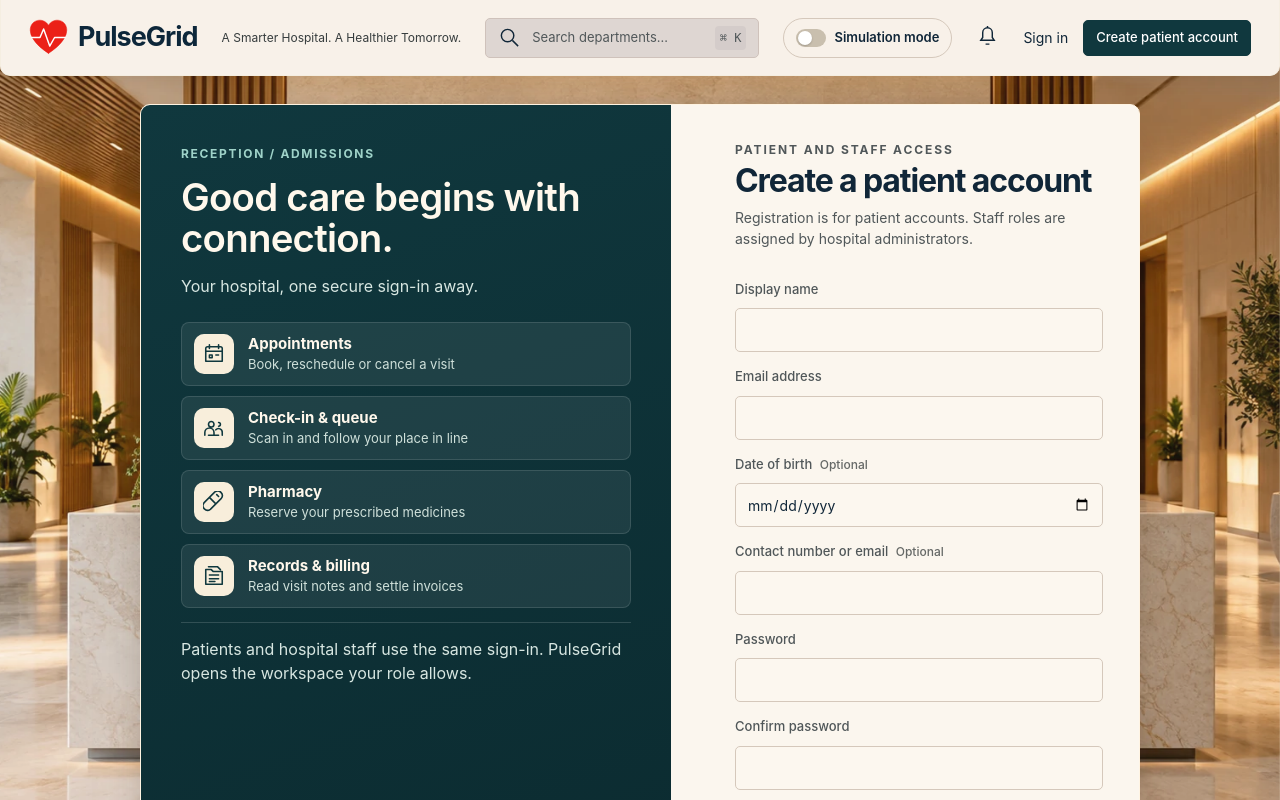
authentication pages › handles duplicate-account responses without exposing a misleading success
This screenshot has width=1280, height=800.
expect the heading "Create a patient account" is shown: met, box [735,163,1103,199]
Type "Synthetic Patient" into the field labelled "Display name".
click(919, 330); type("Synthetic Patient")  # box [735,308,1103,352]
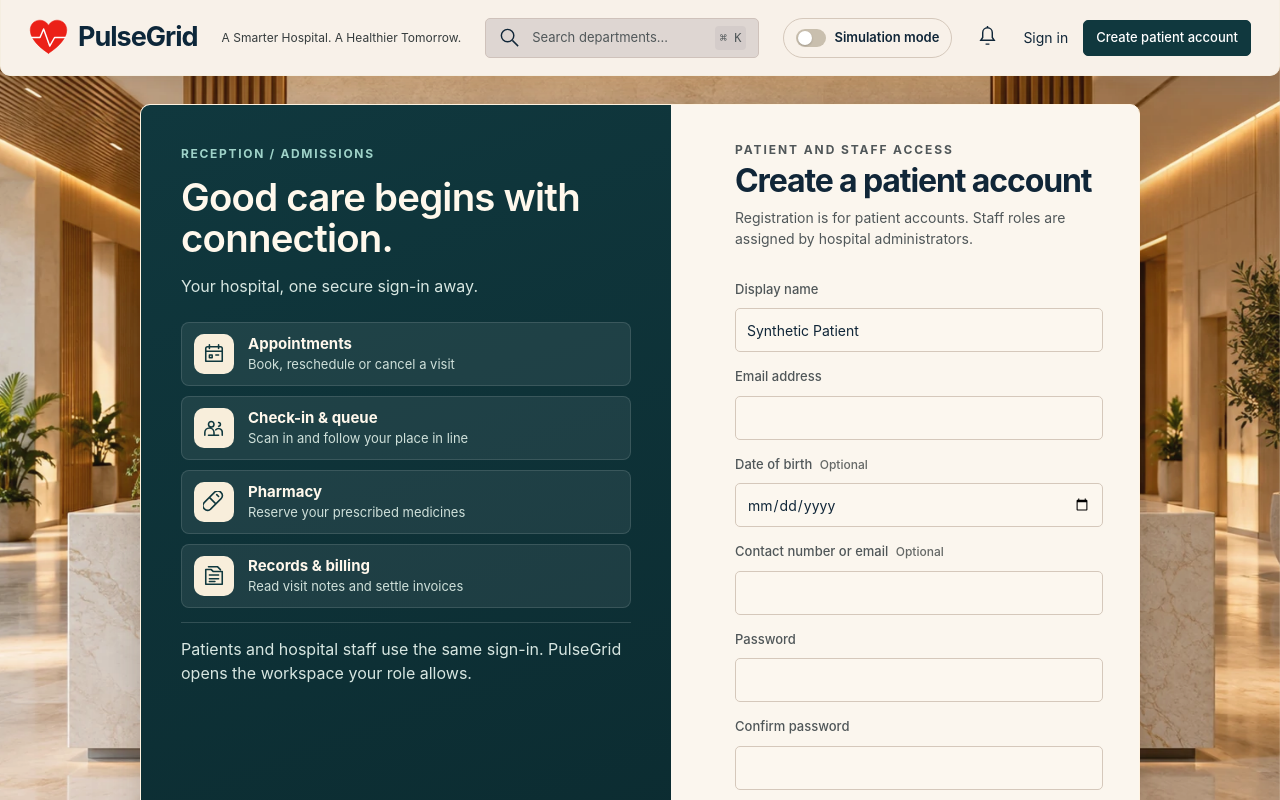
Type "patient@example.test" into the field labelled "Email address".
click(919, 418); type("patient@example.test")  # box [735,396,1103,440]
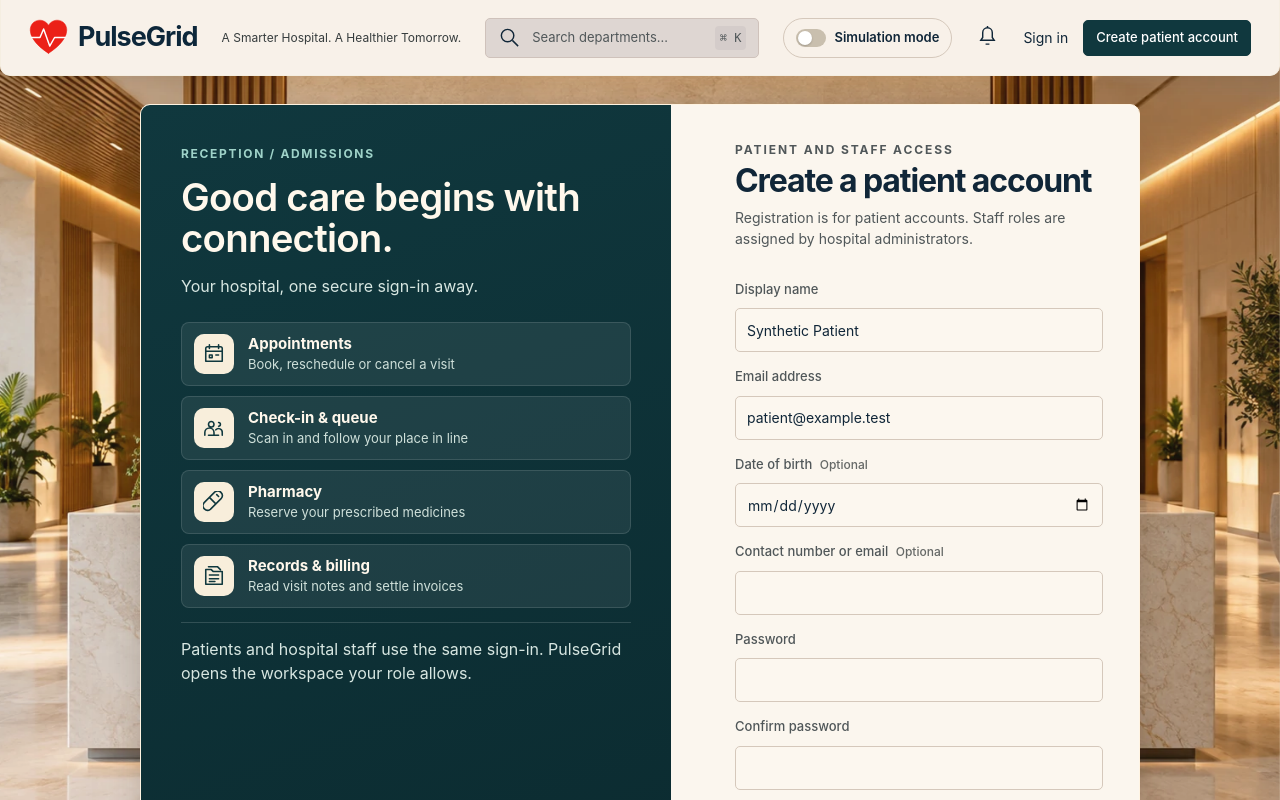
Type "long synthetic passphrase" into the password field labelled "Password".
click(919, 680); type("long synthetic passphrase")  # box [735,658,1103,702]
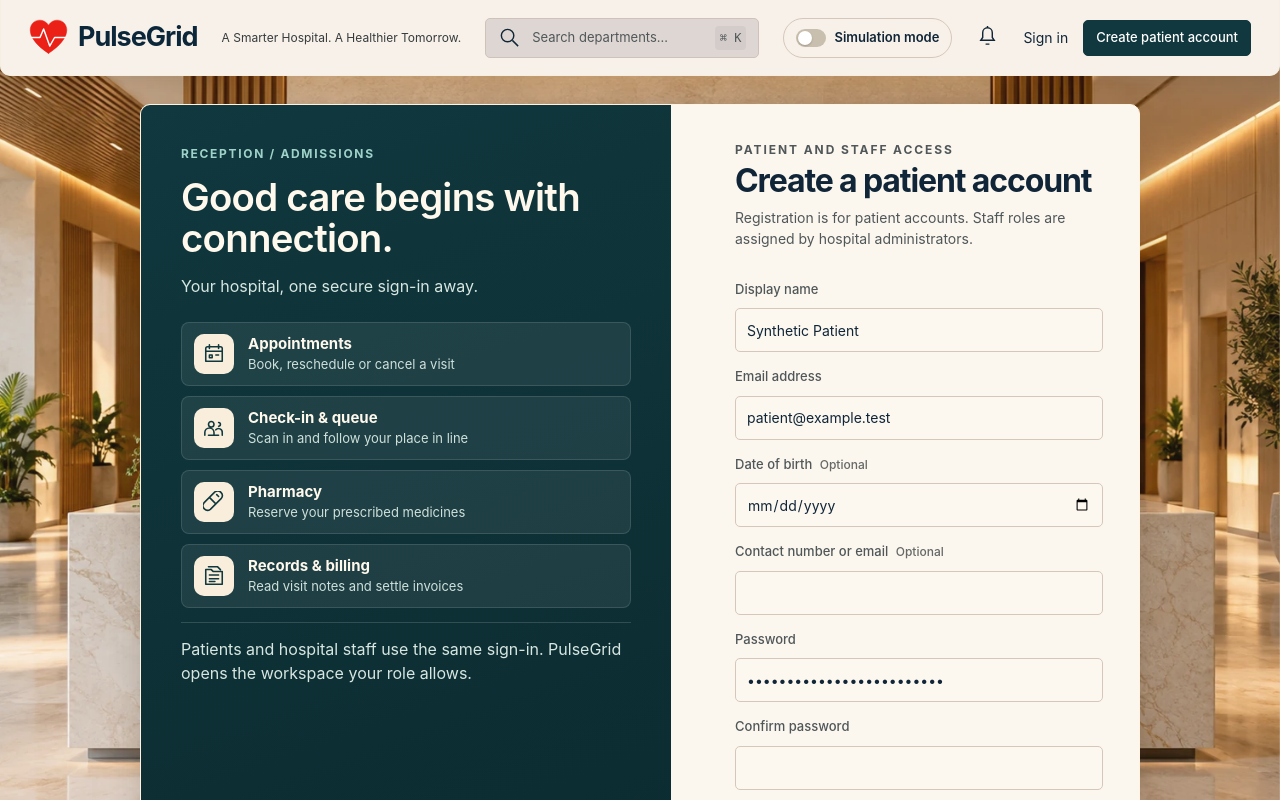
Type "long synthetic passphrase" into the password field labelled "Confirm password".
click(919, 768); type("long synthetic passphrase")  # box [735,746,1103,790]
(page scrolled)
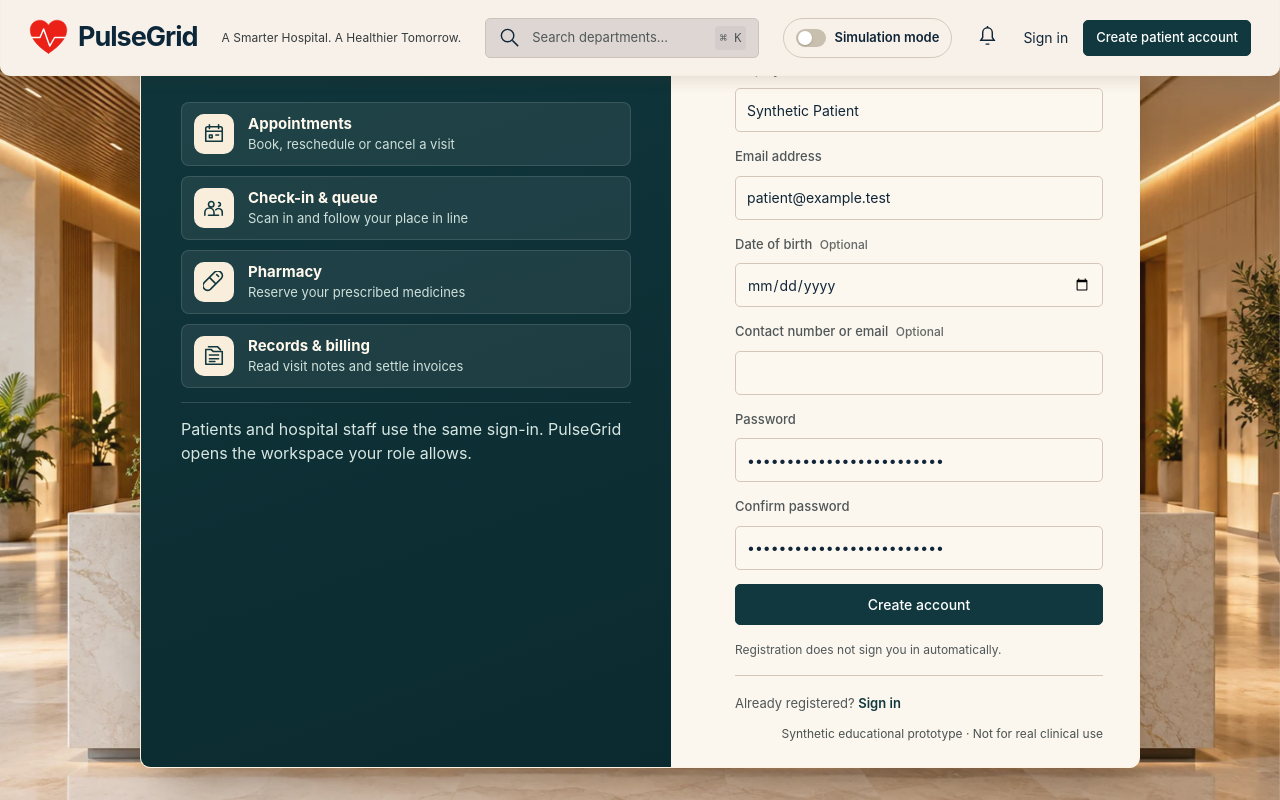
Click the button "Create account".
click(919, 604)  # box [735,584,1103,625]
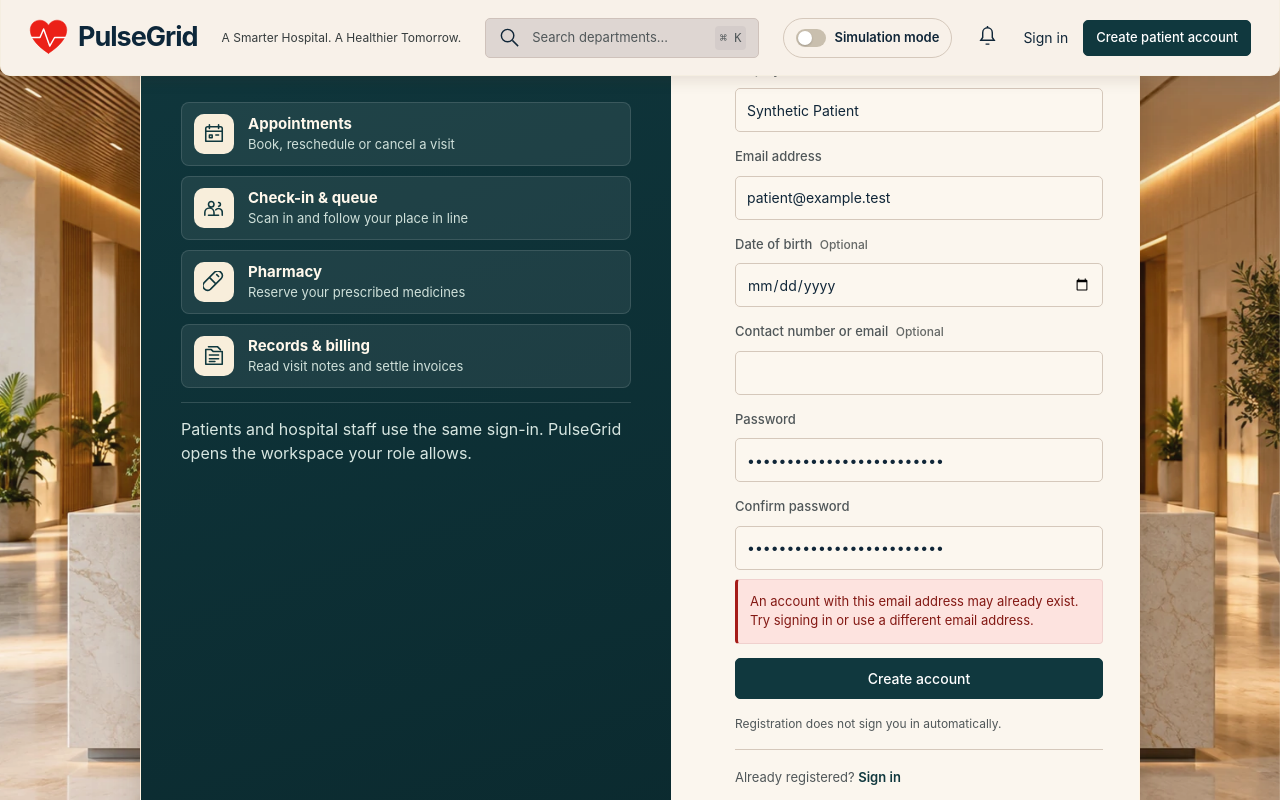
expect the message shows "An account with this email address may already exist.": met, box [750,593,1079,628]
